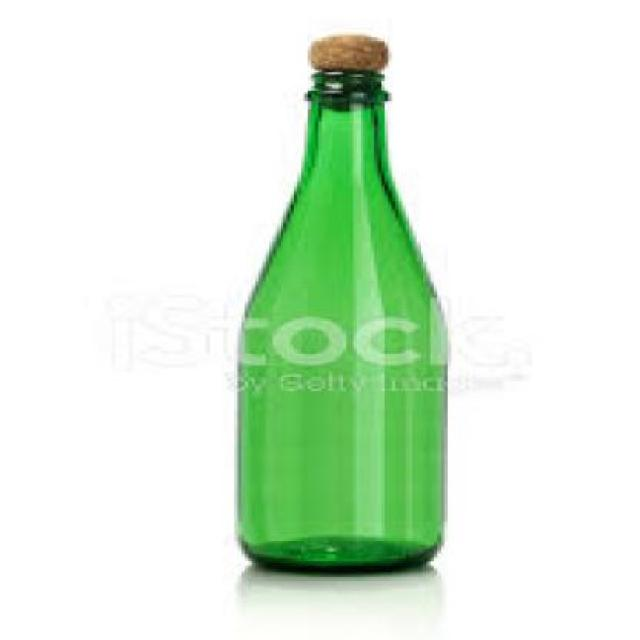kaca: (238, 69, 437, 568)
